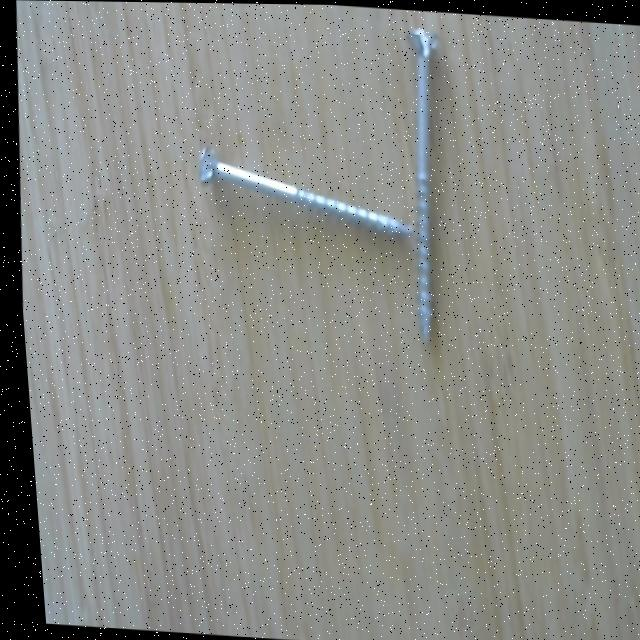Long screw: (186, 137, 416, 254), (388, 21, 467, 347)
